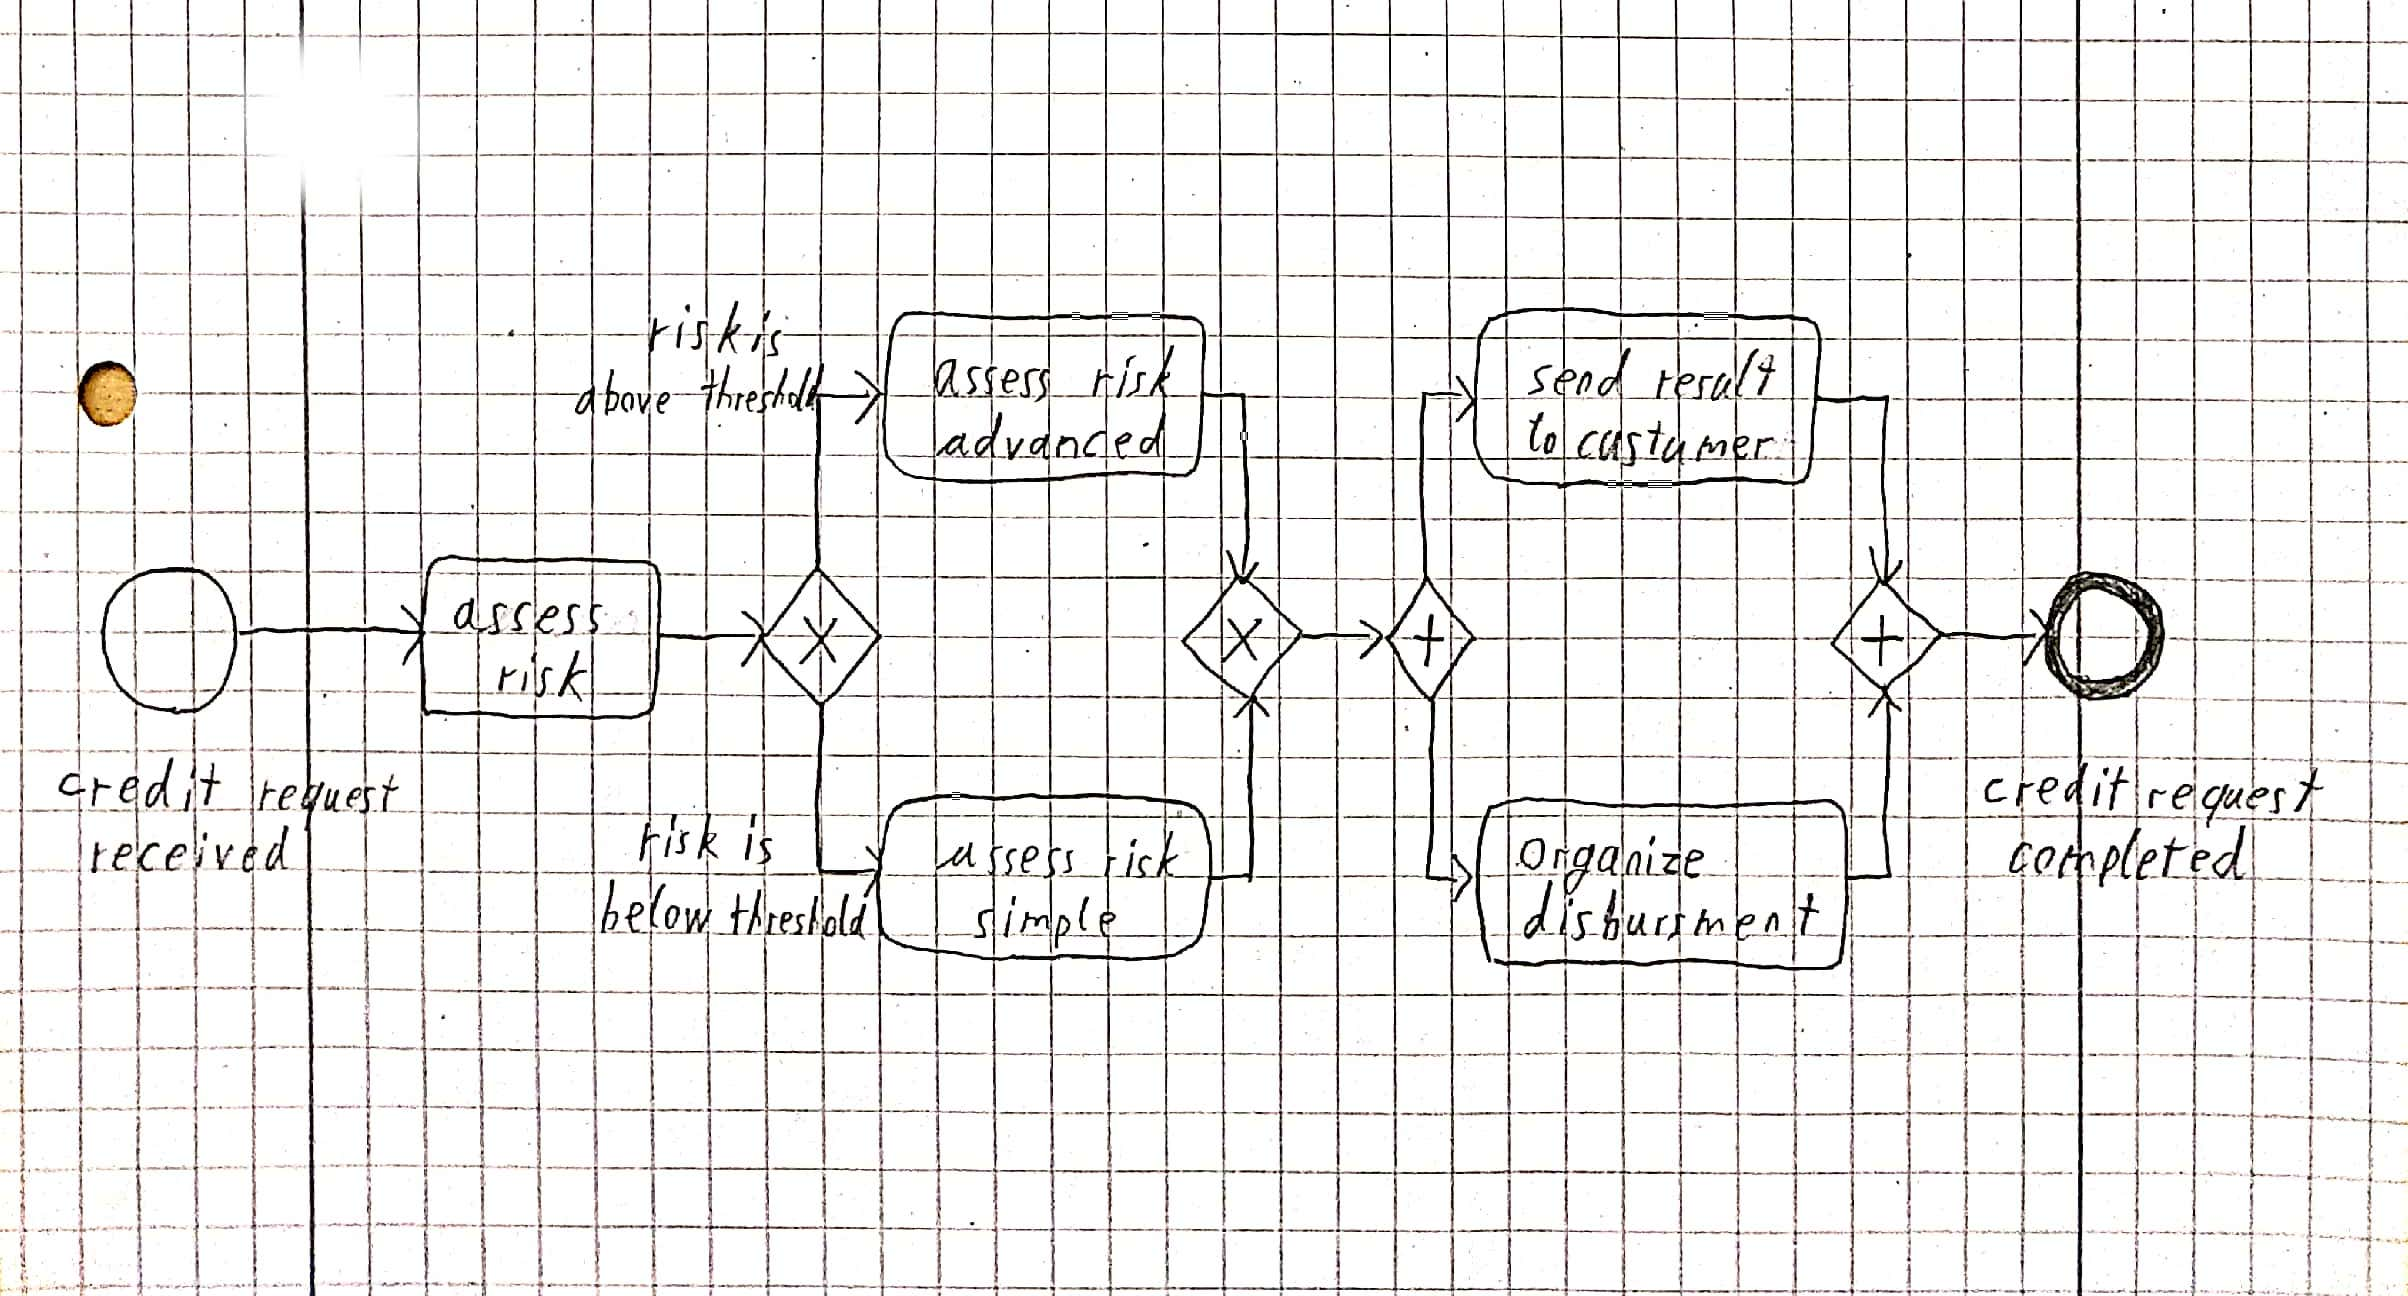Organize: (1514, 835, 1714, 899)
above: (570, 365, 677, 420)
advanced: (930, 407, 1171, 468)
assess: (930, 835, 1085, 884), (448, 594, 608, 638), (930, 354, 1055, 409)
below: (595, 876, 716, 942)
completed: (2003, 820, 2250, 894)
credit: (54, 753, 227, 817), (1977, 760, 2132, 814)
custumer: (1572, 417, 1781, 471)
disbursment: (1518, 878, 1826, 945)
is: (739, 809, 779, 868), (748, 305, 788, 362)
received: (85, 820, 294, 879)
request: (2143, 765, 2328, 832), (252, 769, 404, 835)
result: (1652, 345, 1781, 405)
risk: (495, 646, 595, 707), (1087, 342, 1179, 402), (634, 809, 724, 868), (1096, 828, 1187, 884)
send: (1522, 345, 1636, 405)
simple: (969, 892, 1120, 951)
threshold: (724, 884, 871, 945), (696, 359, 830, 421)
to: (1522, 405, 1562, 461)
